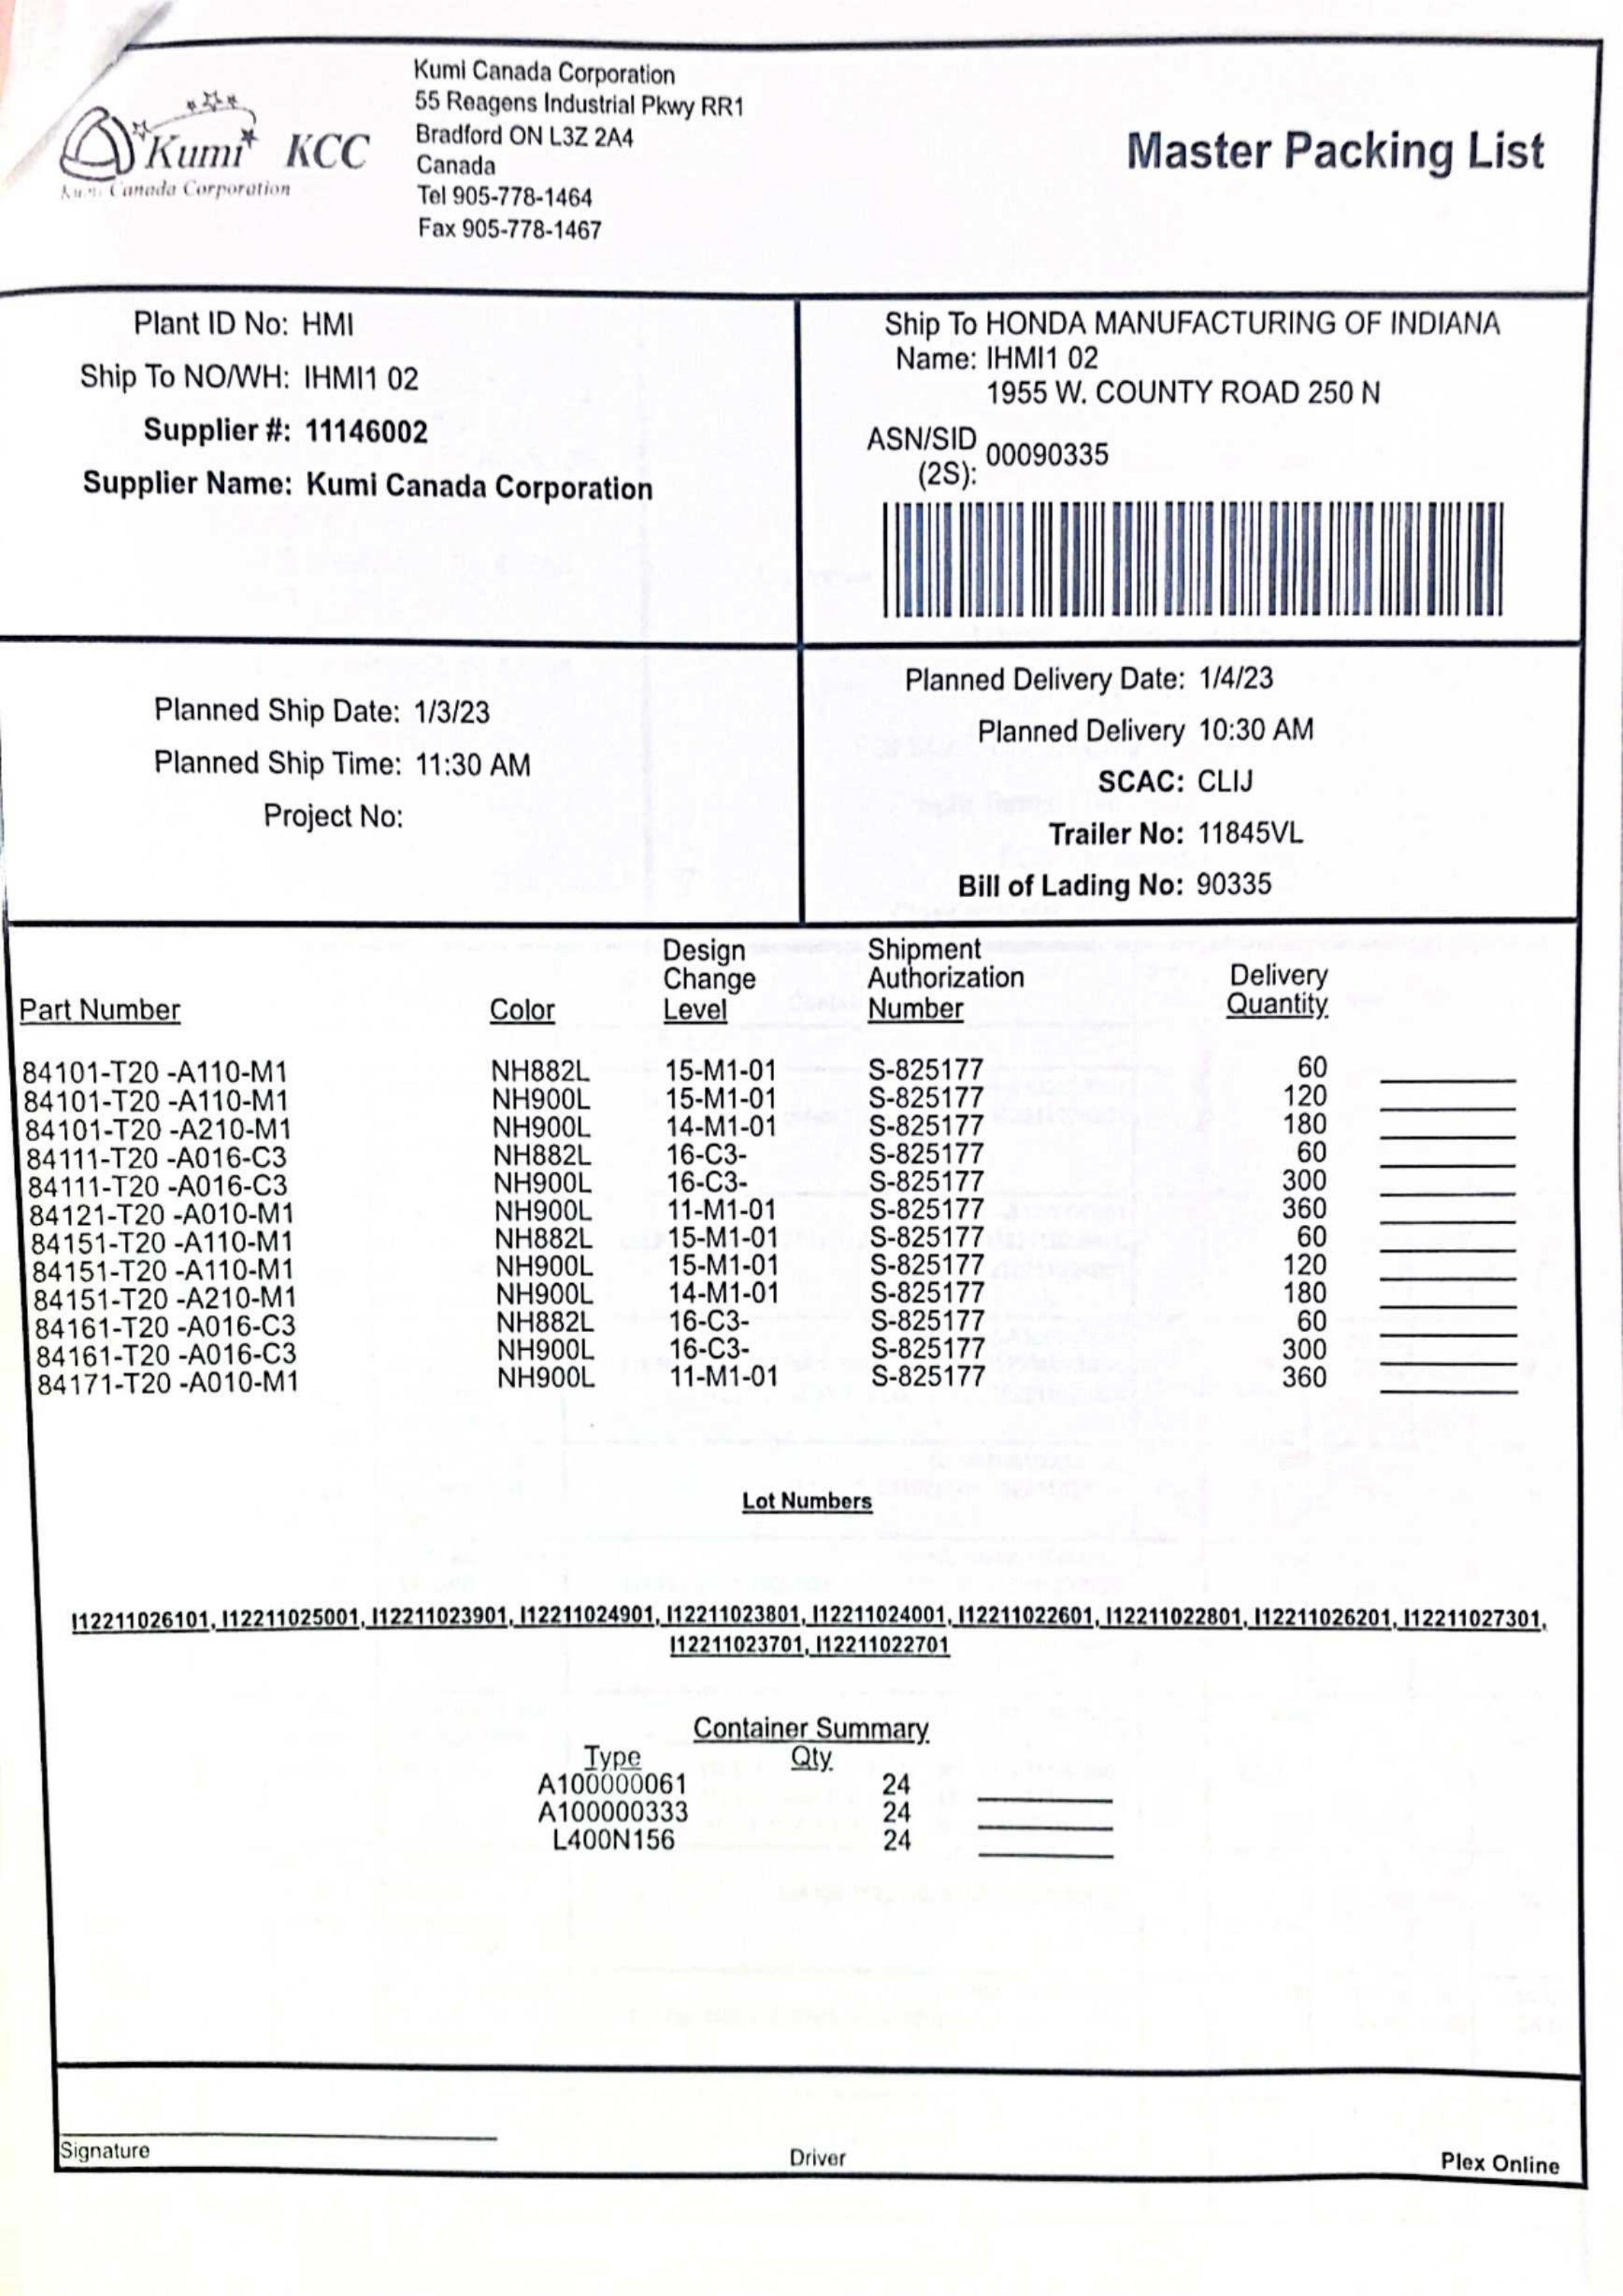B_Paragraph: (63, 295, 673, 520), (885, 658, 1319, 911), (56, 1596, 1554, 1664), (406, 44, 750, 263), (880, 300, 1500, 413), (132, 678, 548, 841), (862, 411, 1124, 490), (1432, 2138, 1583, 2196), (761, 2127, 884, 2180), (56, 2131, 169, 2171)
B_SubTitle: (690, 1703, 943, 1748), (731, 1471, 899, 1531)
B_Table: (14, 925, 1554, 1427), (537, 1741, 1135, 1876)
B_Title: (1121, 105, 1562, 195)
